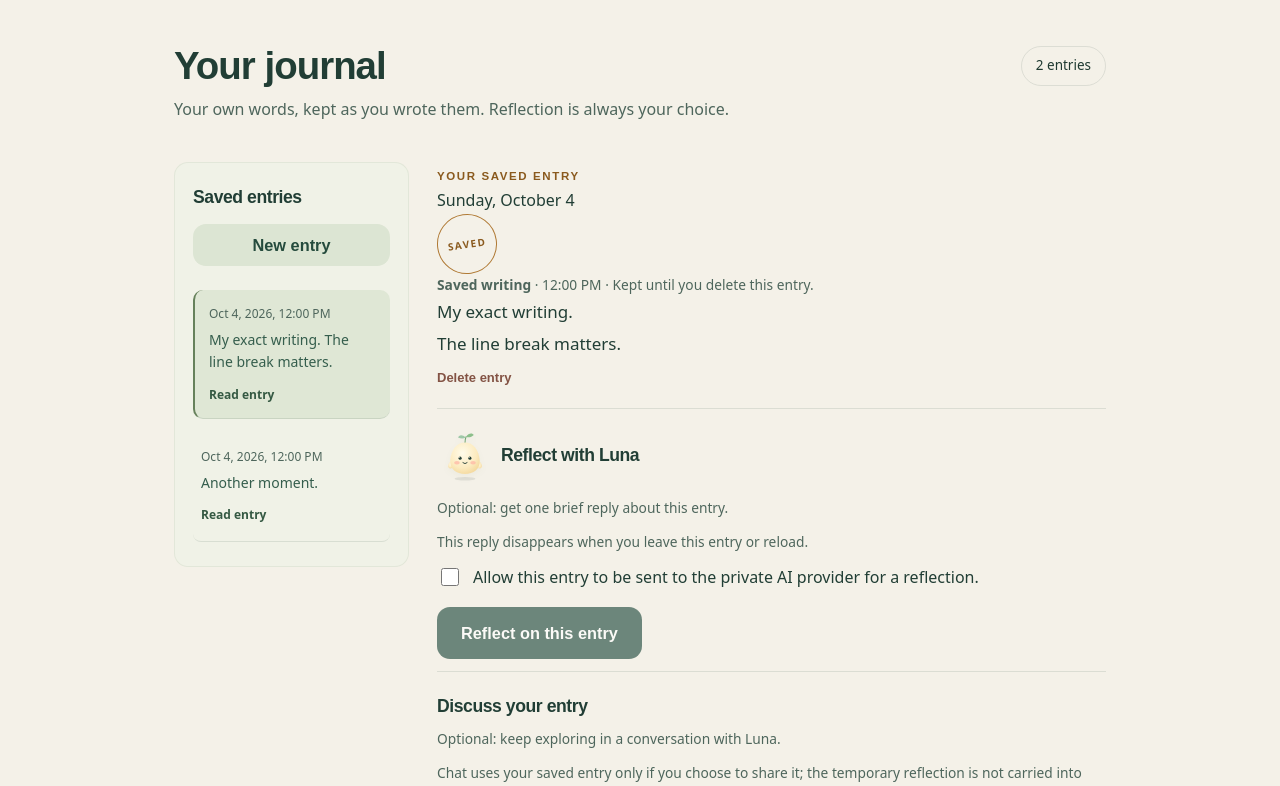
Scenario: journal save, reflection and discussion › a delayed reflection for the previous entry cannot appear in the newly selected entry
Click the checkbox at (450, 577), box 441,568 -> 459,586
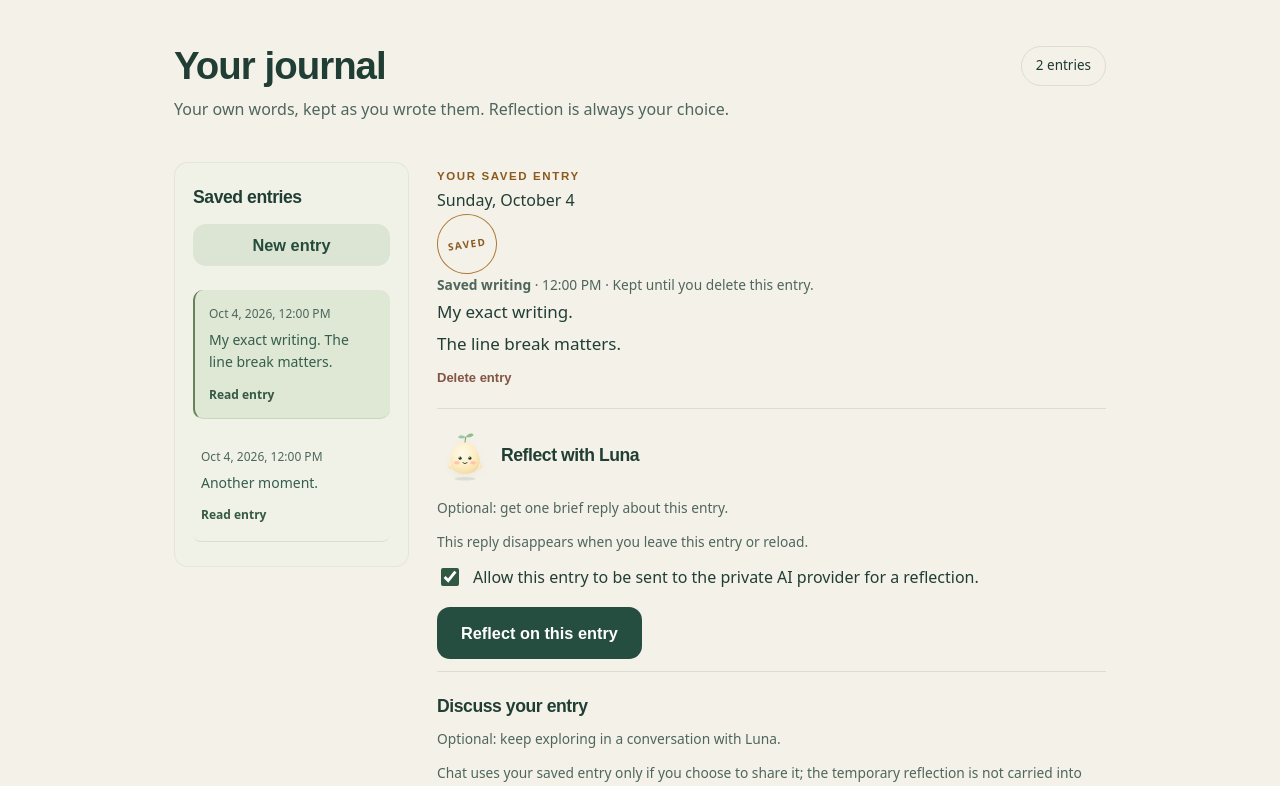
Click the button "Reflect on this entry" at (539, 633), box 437,607 -> 642,659
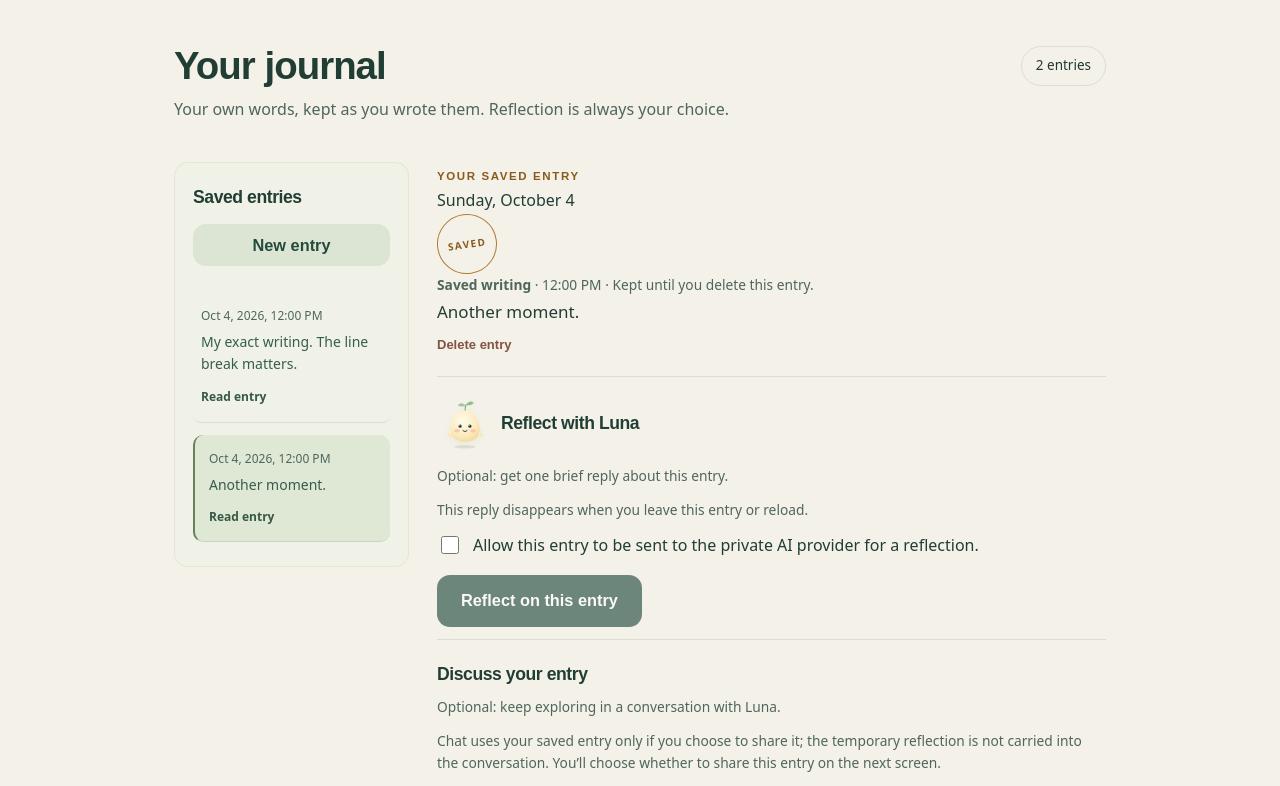
Check: the text with class "journal-entry-text" reads "Another moment.", box 437,300 -> 579,323
Check: the button "Reflect on this entry" is disabled, box 437,574 -> 642,626
